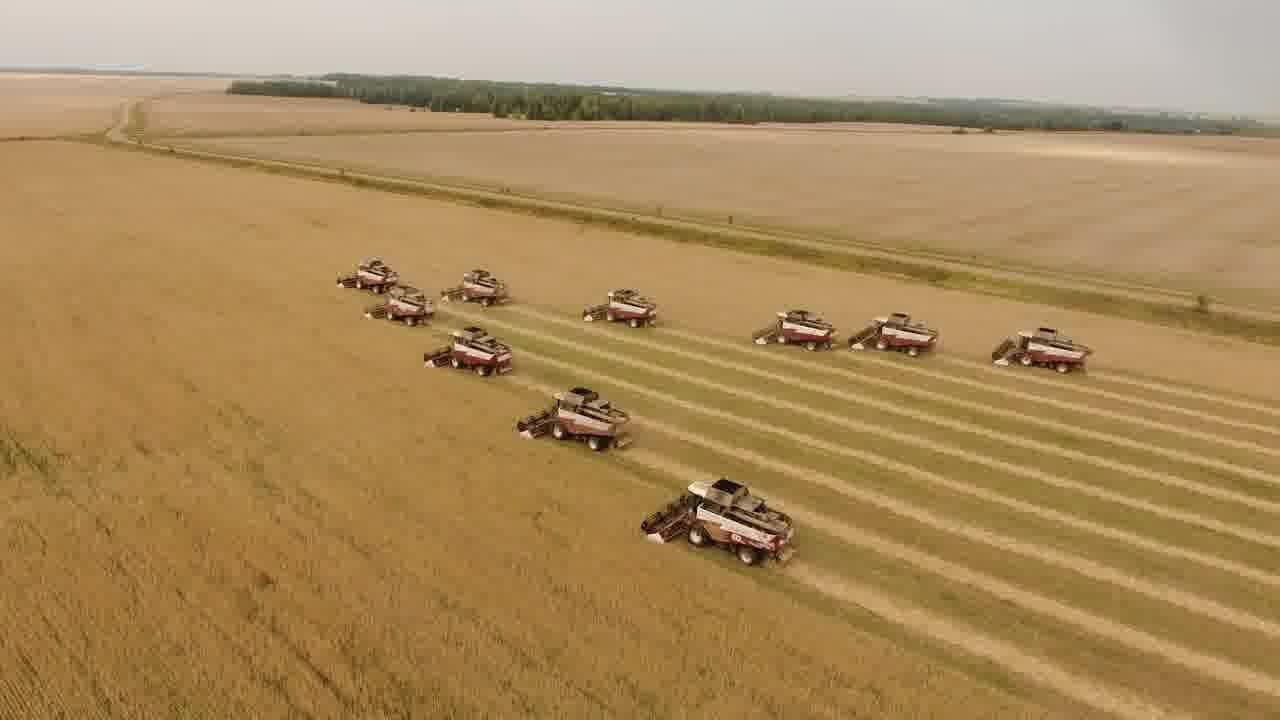combine harvester: (639, 474, 801, 568), (512, 384, 639, 459), (420, 322, 516, 380), (989, 324, 1094, 377), (847, 309, 939, 361), (750, 306, 839, 355), (582, 284, 662, 332), (362, 285, 437, 327), (440, 264, 509, 309), (330, 256, 400, 292)
